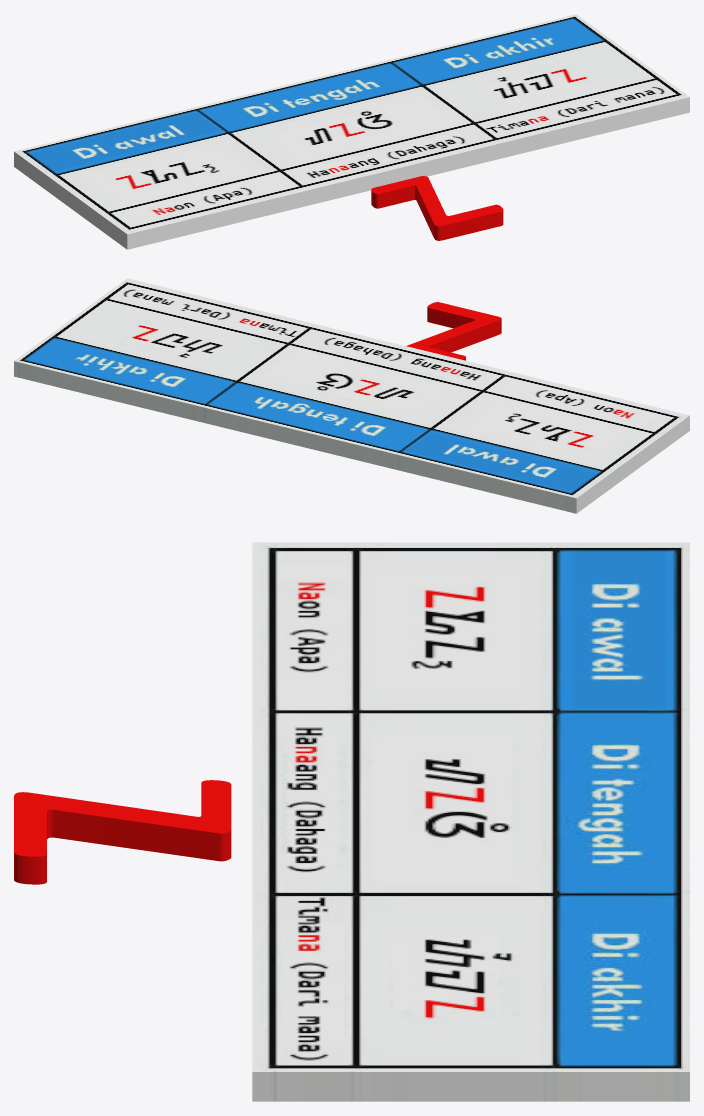
The picture shows the model from 3 angles, top to bottom: view 1: azimuth 30°, elevation 25°; view 2: azimuth 150°, elevation 25°; view 3: azimuth 270°, elevation 25°; orthographic projection. The views are drawn at different scales.
Parts seen in each view (by area): view 1: contoh-bunyi-huruf-na-Ngalagena, Text; view 2: contoh-bunyi-huruf-na-Ngalagena, Text; view 3: contoh-bunyi-huruf-na-Ngalagena, Text.
Boxes of the visible parts, x1,y1,x2,y2 form: contoh-bunyi-huruf-na-Ngalagena: (14, 14, 689, 249); Text: (371, 176, 503, 240); contoh-bunyi-huruf-na-Ngalagena: (14, 278, 689, 513); Text: (406, 302, 501, 360); contoh-bunyi-huruf-na-Ngalagena: (252, 542, 689, 1101); Text: (14, 780, 231, 884).
Bounding box in the file's own units: 286 × 11 × 154.
